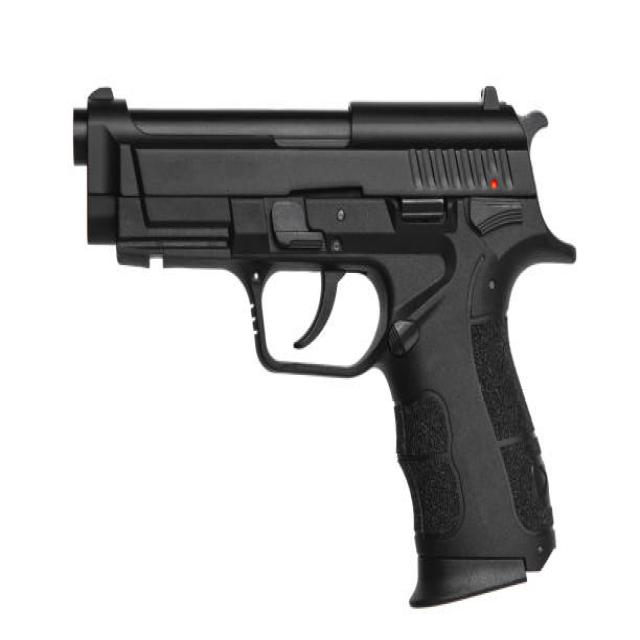pistol: (63, 76, 582, 615)
